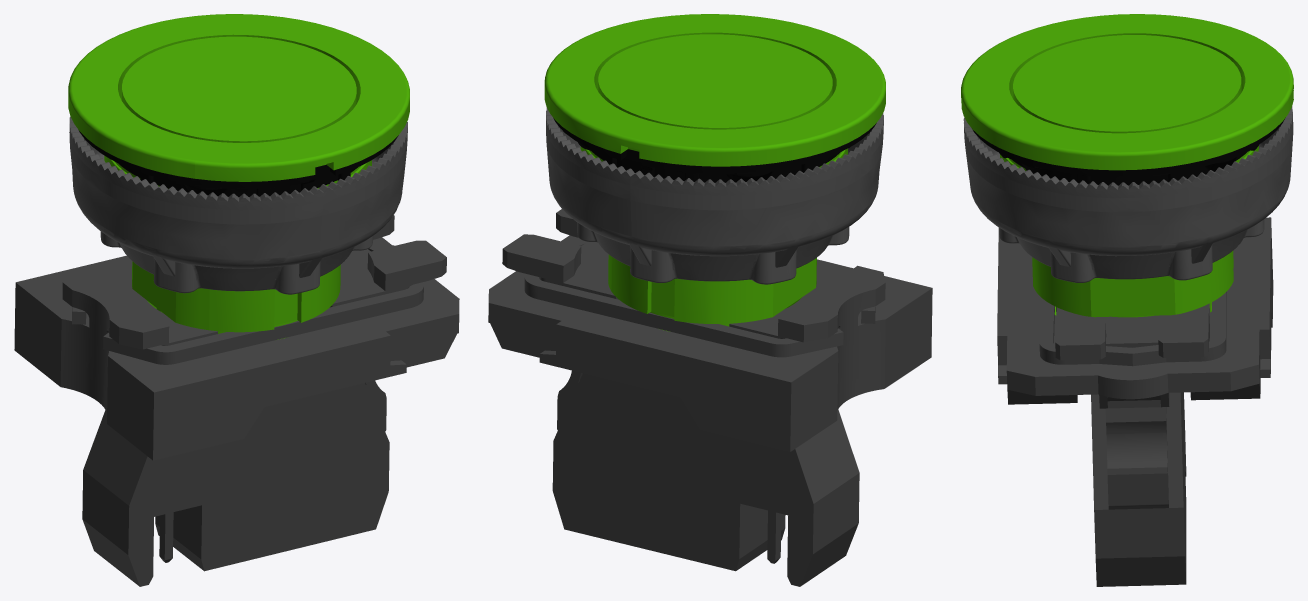
The model's file is signaallamp_groen.gltf.
3 views of the same model, side by side, from view 1: azimuth 30°, elevation 25°; view 2: azimuth 150°, elevation 25°; view 3: azimuth 270°, elevation 25° (orthographic). The views are drawn at different scales.
Visible parts, largest first — view 1: signaallamp_groen; view 2: signaallamp_groen; view 3: signaallamp_groen.
Boxes of the visible parts, <box> form: signaallamp_groen: <box>14,14,459,586</box>; signaallamp_groen: <box>488,14,932,586</box>; signaallamp_groen: <box>961,14,1293,586</box>.
Bounding box in the file's own units: 0.0413 × 0.0544 × 0.0364.
